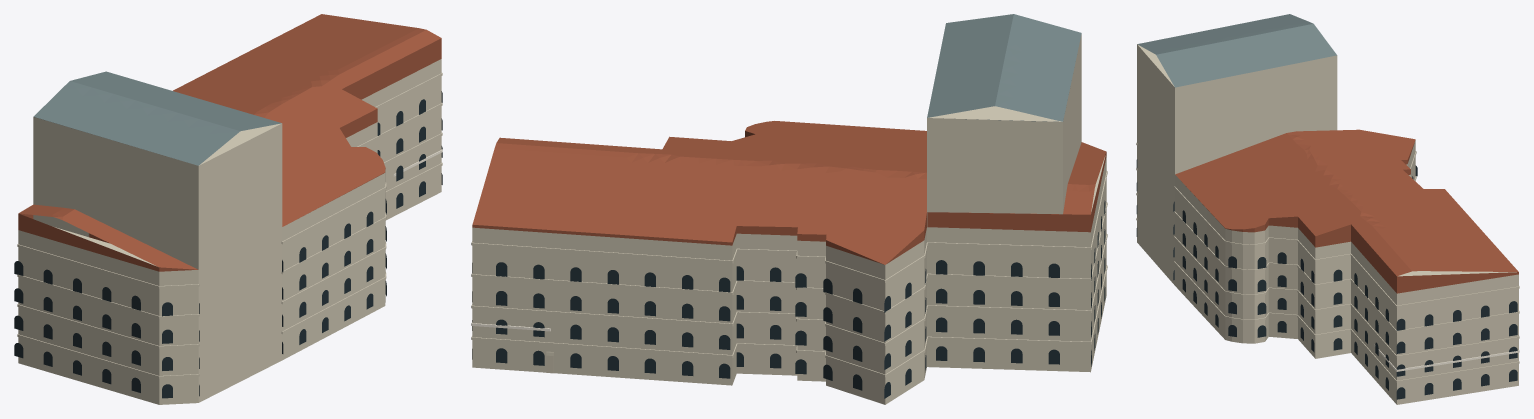
The model's file is fenice.glb.
3 views of the same model, side by side, from view 1: azimuth 30°, elevation 25°; view 2: azimuth 150°, elevation 25°; view 3: azimuth 270°, elevation 25° (orthographic). The views are drawn at different scales.
Visible parts, largest first — view 1: roof (×2), palace, raised-stage-house, facade-windows, storey-bands; view 2: palace, roof (×2), raised-stage-house, facade-windows, storey-bands; view 3: roof (×2), palace, raised-stage-house, facade-windows, storey-bands, cornice.
Boxes of the visible parts, bbox=[...] form: roof (×2): bbox=[18, 14, 441, 271]; palace: bbox=[18, 59, 441, 404]; raised-stage-house: bbox=[33, 117, 282, 402]; facade-windows: bbox=[14, 91, 442, 398]; storey-bands: bbox=[17, 73, 442, 378]; palace: bbox=[472, 155, 1106, 404]; roof (×2): bbox=[472, 14, 1106, 264]; raised-stage-house: bbox=[927, 34, 1081, 366]; facade-windows: bbox=[472, 200, 1105, 398]; storey-bands: bbox=[471, 171, 1107, 377]; roof (×2): bbox=[1137, 14, 1518, 293]; palace: bbox=[1175, 140, 1518, 404]; raised-stage-house: bbox=[1137, 44, 1337, 285]; facade-windows: bbox=[1136, 159, 1517, 399]; storey-bands: bbox=[1136, 142, 1519, 382]; cornice: bbox=[1374, 345, 1519, 371].
Size of the model in its own units: 16 by 7.72 by 12.82.
